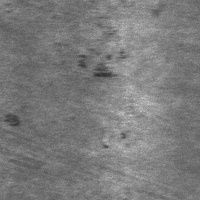rolled-in_scale: (75, 25, 131, 80)
